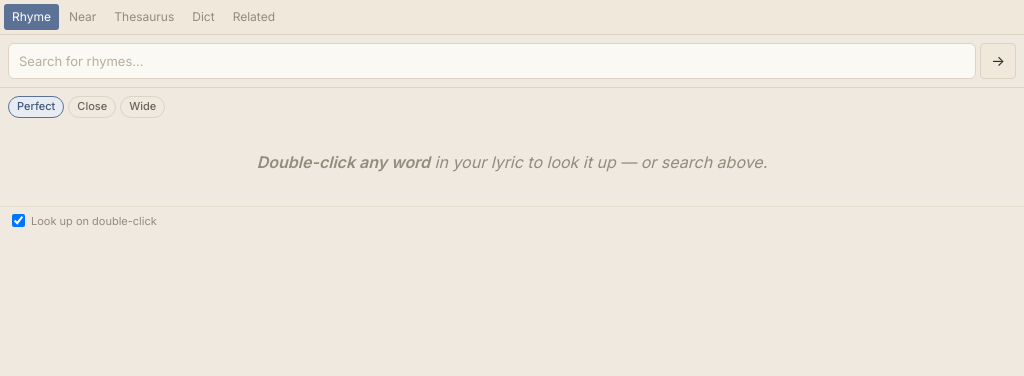
Test case: Tools pane: syllable filter (C-50) › T-14.36: the filter is not offered outside rhyme modes
Type "light" into the field with test id "tools-search-input" at (492, 61), box [8,43,976,79]
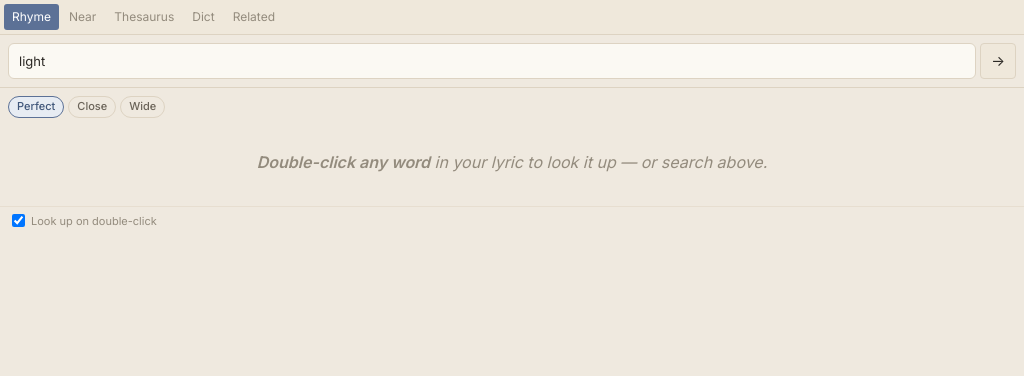
Click the button with test id "tools-search-button" at (998, 61), box [980,43,1016,79]
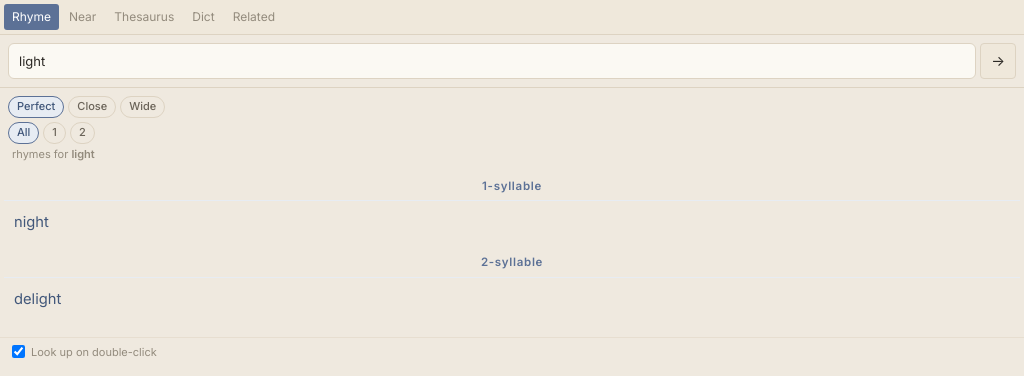
Expected: the element with test id "tools-results-list" is shown, [0,168,1023,336]
Expected: the element with test id "tools-syllable-chips" is shown, [8,122,95,144]
Click the tab with test id "tools-tab-thesaurus" at (144, 17), box [106,4,182,30]
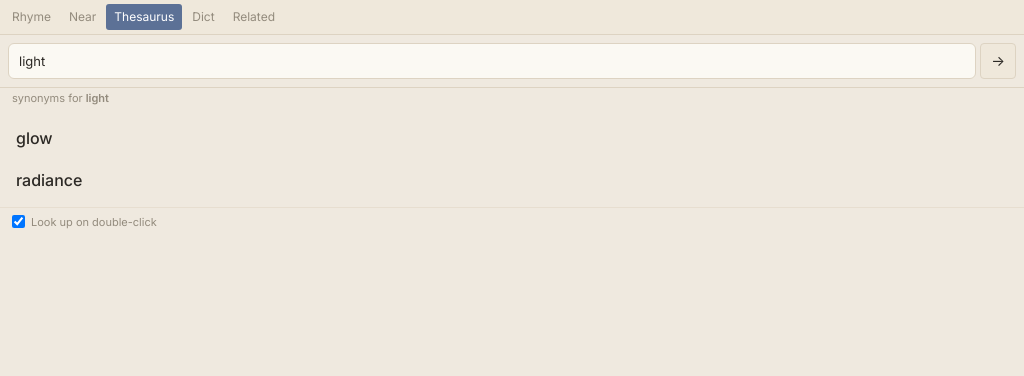
Expected: the element with test id "tools-syllable-chips" is gone
